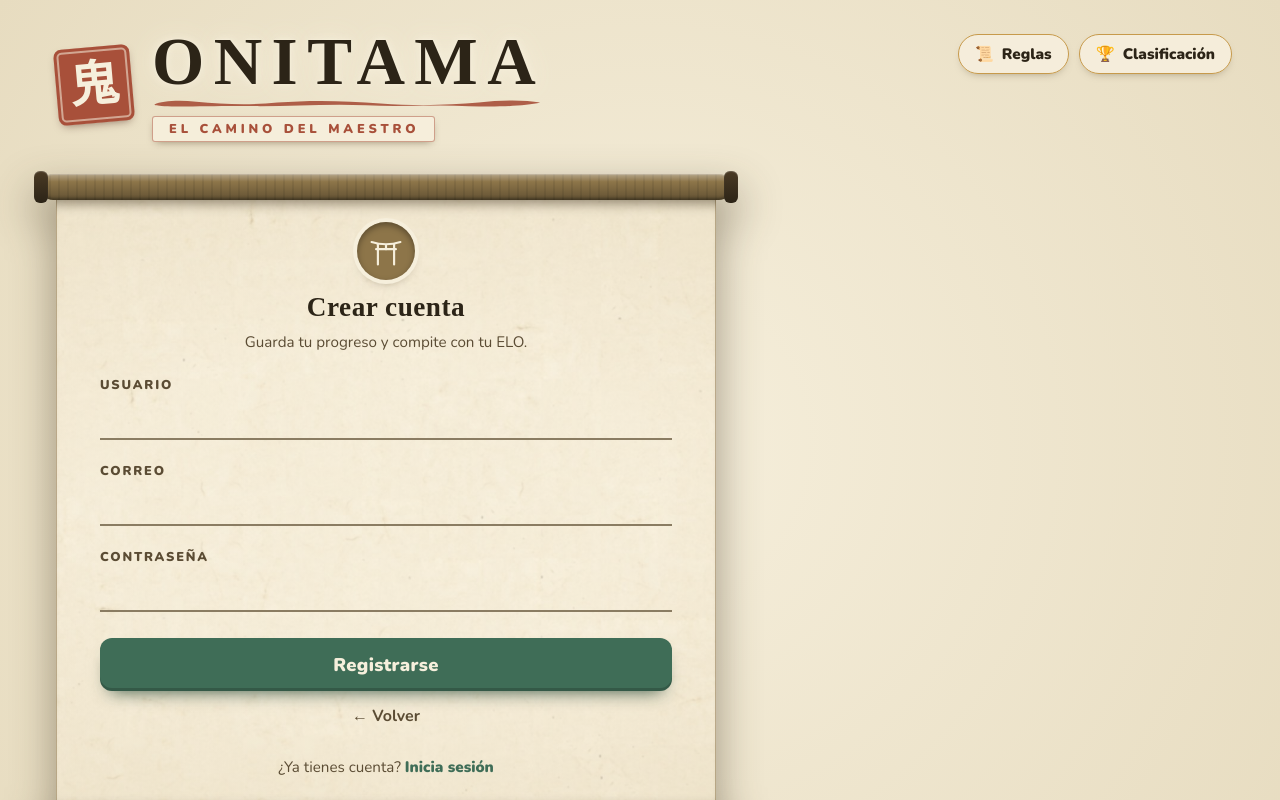
it: RegisterPage › muestra un mensaje de error si el registro falla
Type "testuser" into the field labelled "Usuario" at (386, 418), box top-left (100, 396), bottom-right (672, 440)
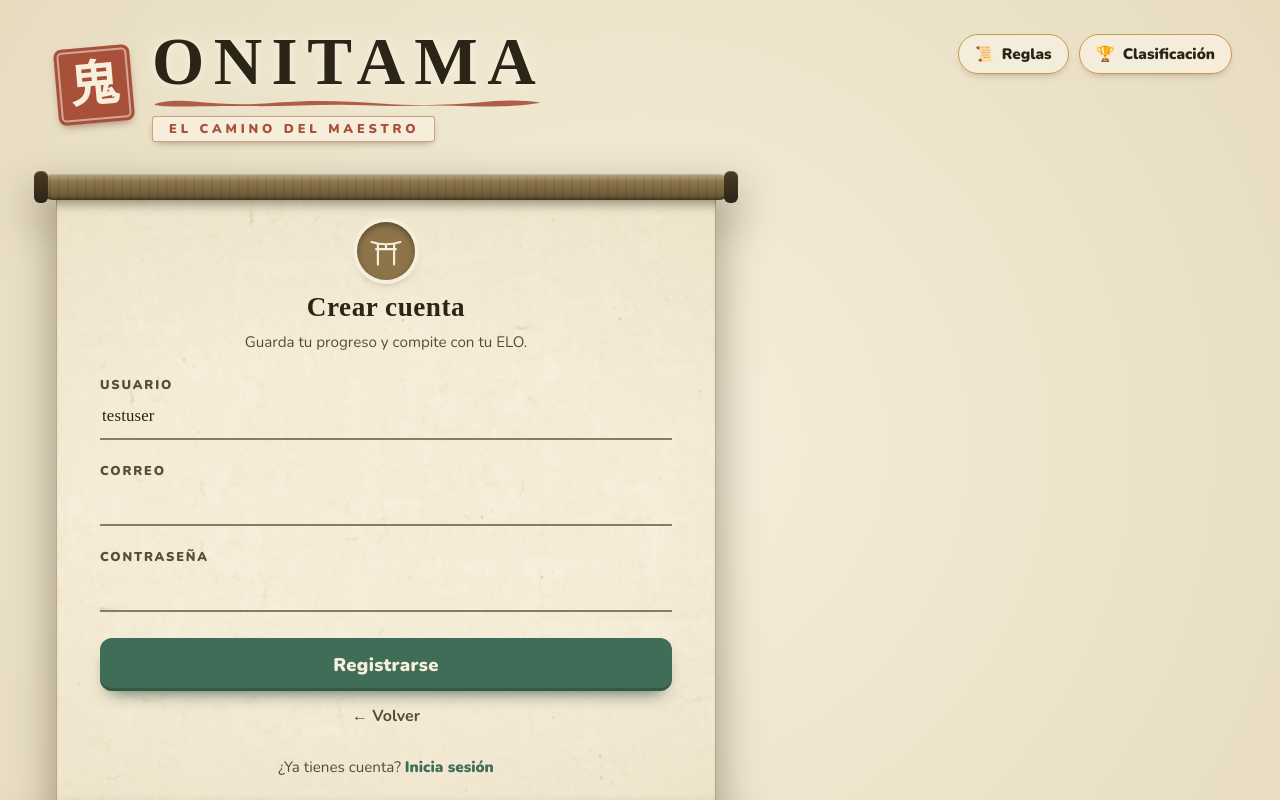
Type "testuser@example.com" into the field labelled "Correo" at (386, 504), box top-left (100, 482), bottom-right (672, 526)
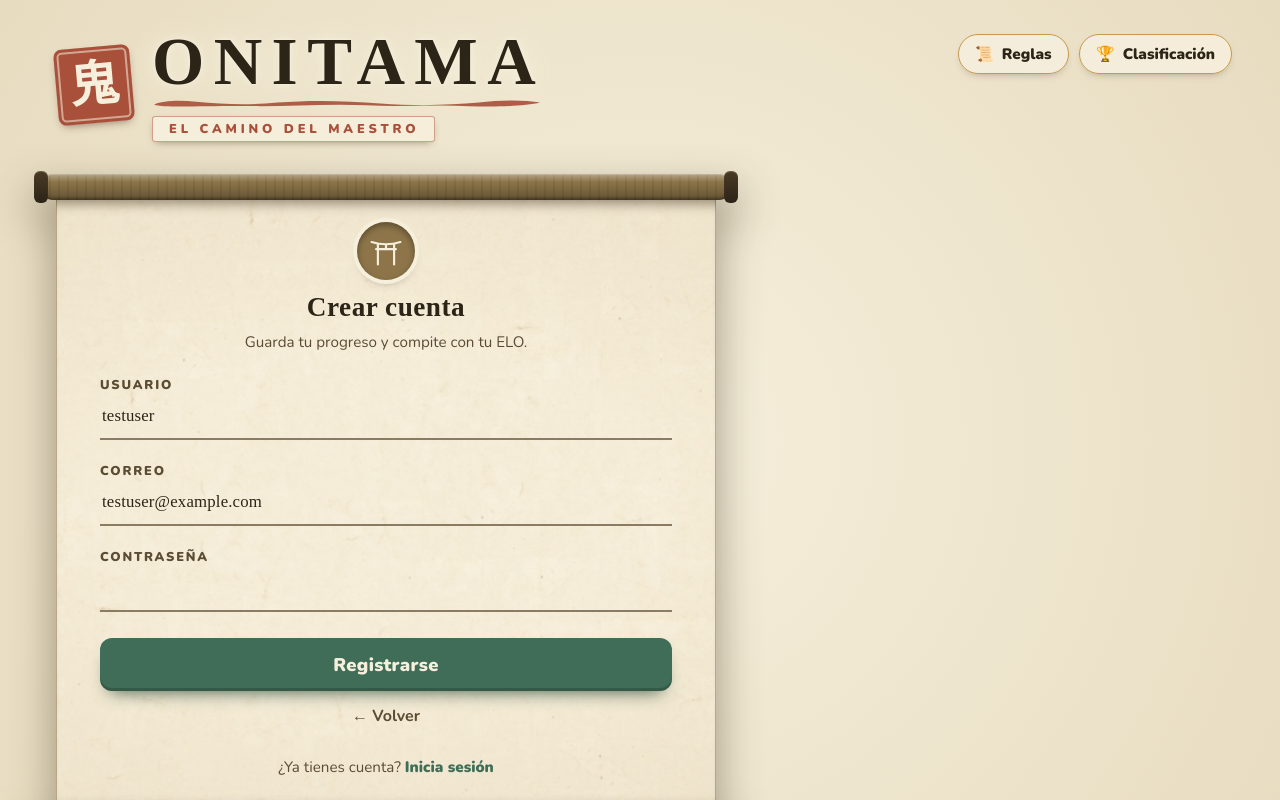
Type "password" into the password field labelled "Contraseña" at (386, 590), box top-left (100, 568), bottom-right (672, 612)
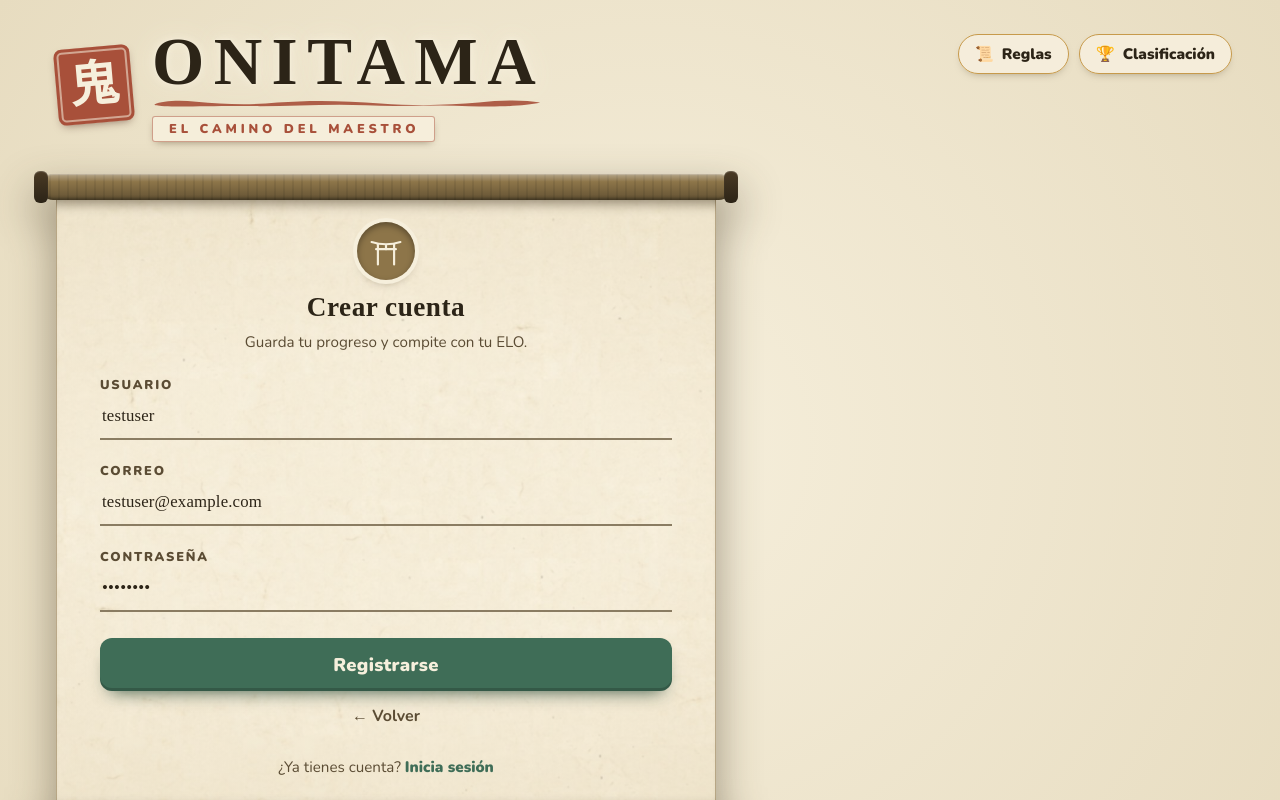
Click the button "Registrarse" at (386, 664), box top-left (100, 638), bottom-right (672, 691)
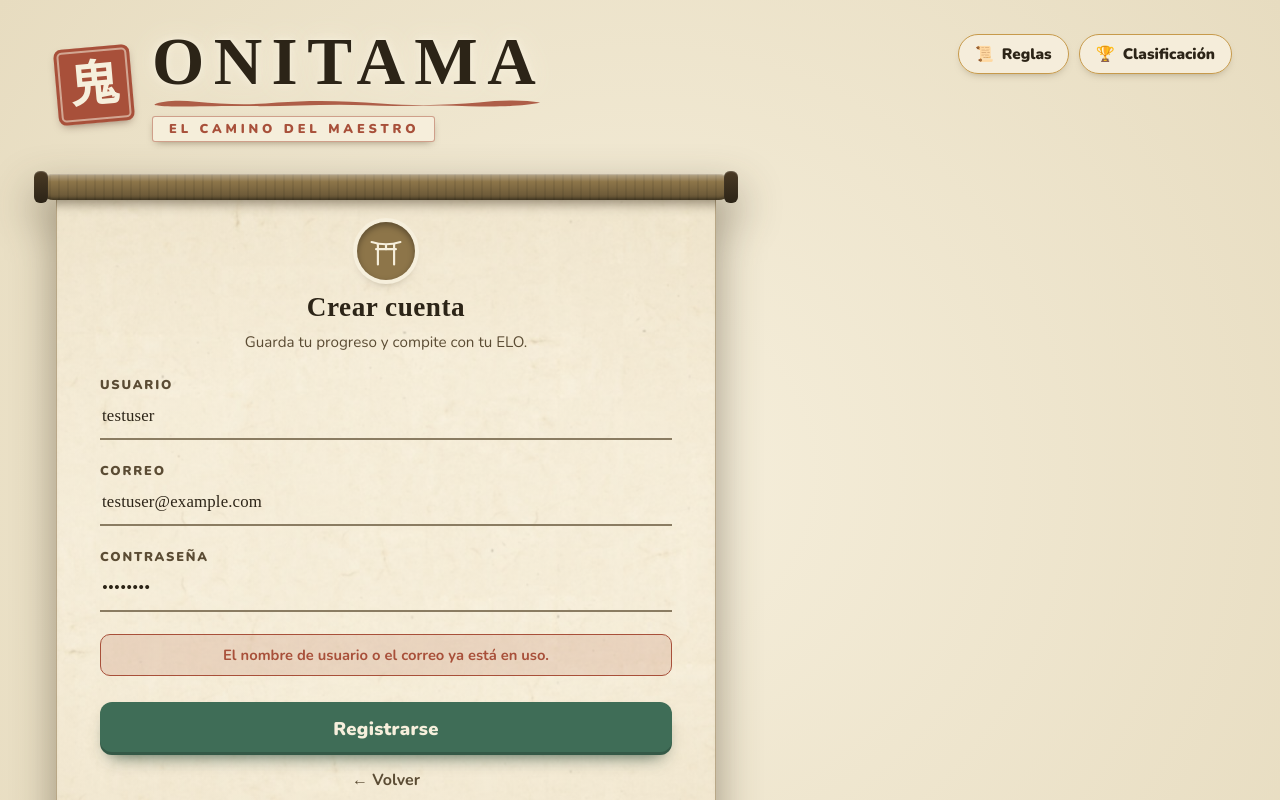
Expected: the text "El nombre de usuario o el correo ya está en uso." is shown, top-left (100, 634), bottom-right (672, 676)
